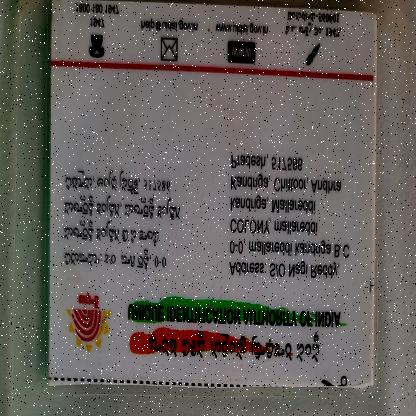aadhaar_card: (46, 9, 380, 398)
